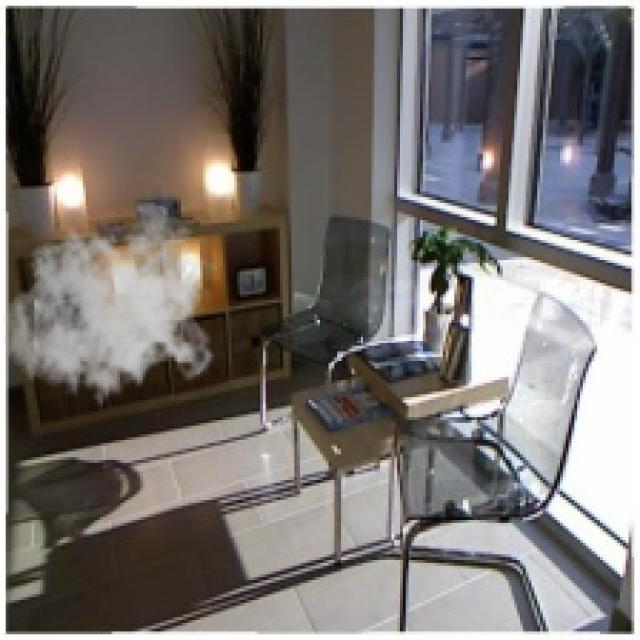smoke: (3, 203, 217, 417)
